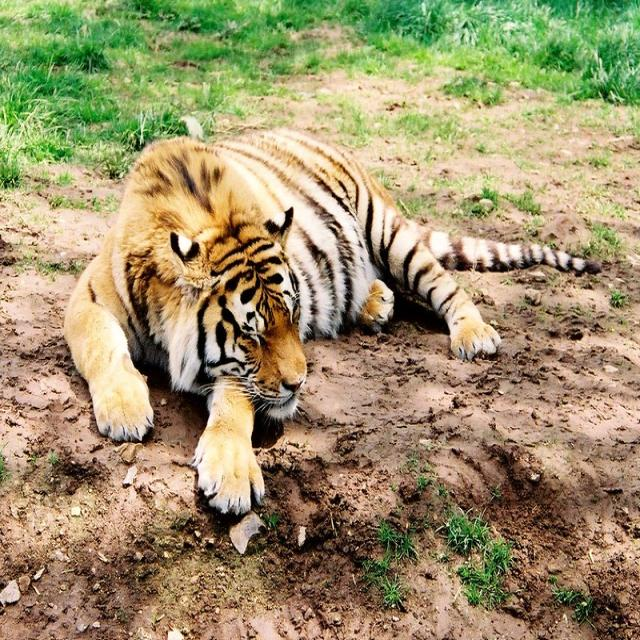Tiger: (61, 116, 605, 512)
